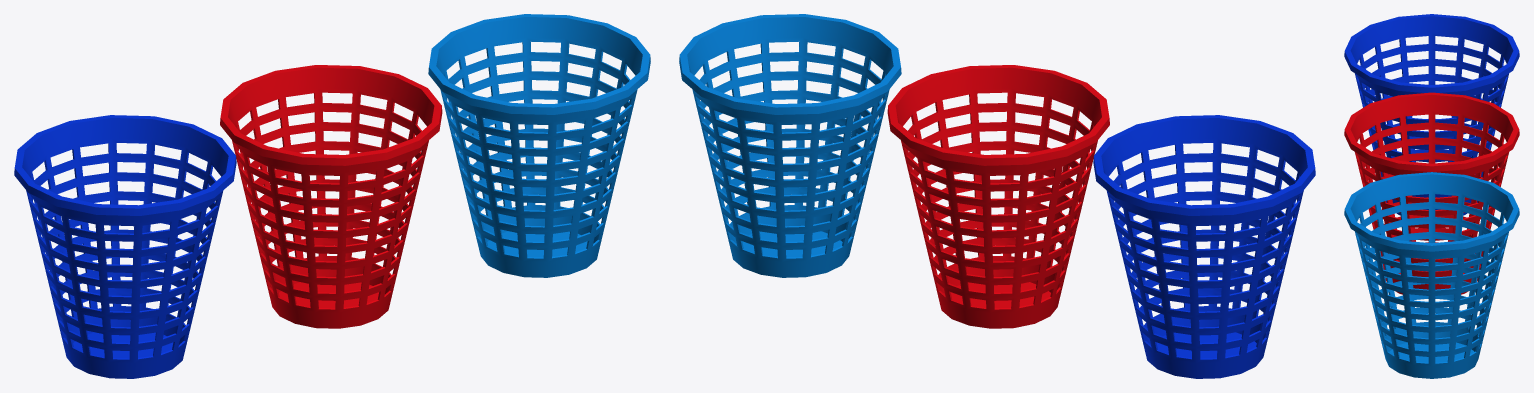
Rendered from rubbish pail.fbx.
3 views of the same model, side by side, from view 1: azimuth 30°, elevation 25°; view 2: azimuth 150°, elevation 25°; view 3: azimuth 270°, elevation 25° (orthographic). The views are drawn at different scales.
Visible parts, largest first — view 1: Cylinder.002, Cylinder, Cylinder.001; view 2: Cylinder.002, Cylinder, Cylinder.001; view 3: Cylinder.002, Cylinder, Cylinder.001.
Part boxes in pixels (left/top/right/bottom): Cylinder.002: left=428, top=14, right=650, bottom=277; Cylinder: left=220, top=65, right=442, bottom=328; Cylinder.001: left=14, top=115, right=236, bottom=378; Cylinder.002: left=679, top=14, right=901, bottom=277; Cylinder: left=887, top=65, right=1109, bottom=328; Cylinder.001: left=1093, top=115, right=1315, bottom=378; Cylinder.002: left=1344, top=172, right=1519, bottom=378; Cylinder: left=1344, top=92, right=1519, bottom=294; Cylinder.001: left=1344, top=14, right=1519, bottom=215.
Bounding box in the file's own units: 667 × 202 × 213.
